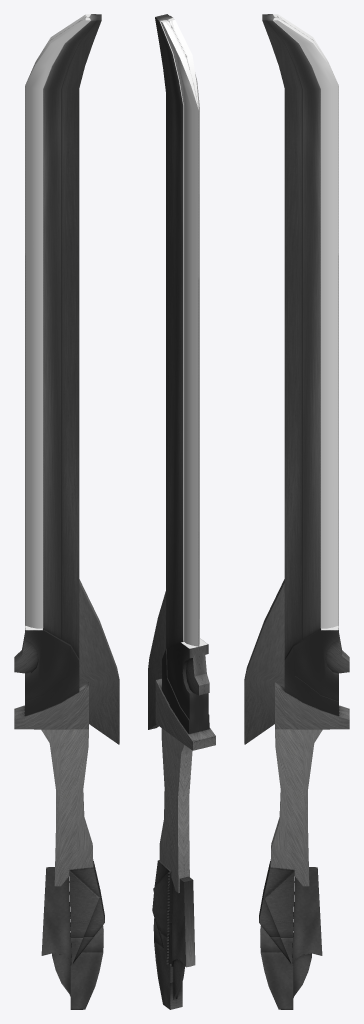
File: Two-handed.fbx
The picture shows the model from 3 angles, left to right: view 1: azimuth 90°, elevation 25°; view 2: azimuth 210°, elevation 25°; view 3: azimuth 270°, elevation 25°; orthographic projection.
Parts seen in each view (by area): view 1: polySurface12; view 2: polySurface12; view 3: polySurface12.
Boxes of the visible parts, x1=… form: polySurface12: x1=14, y1=14, x2=119, y2=1009; polySurface12: x1=148, y1=14, x2=215, y2=1009; polySurface12: x1=244, y1=14, x2=349, y2=1009.
Bounding box in the file's own units: 1.78 × 72.09 × 6.96.
